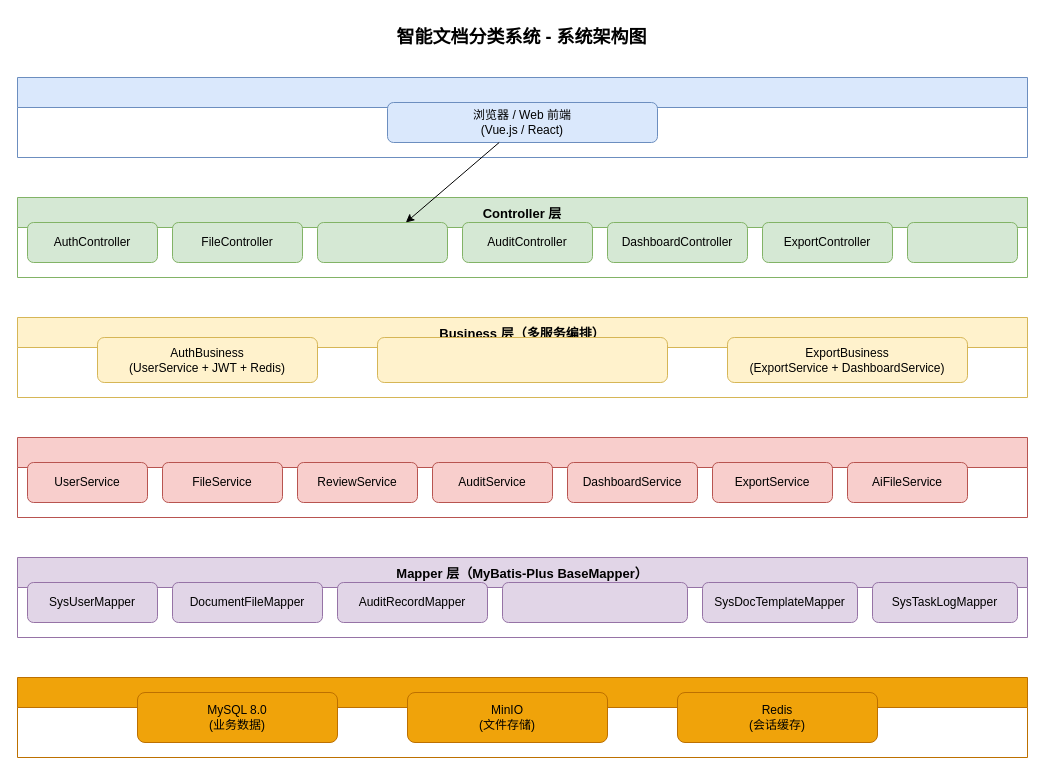
Image size: 1045x775. Some labels were removed from this diagram. The shapes that lost their labels are listed below. From the top down, each one's box as (x1, y1, x2, y2) in pixels, then its label:
(16, 76, 1028, 158): 前端层
(316, 222, 448, 262): ReviewController
(906, 222, 1018, 262): AiProcessController
(376, 336, 668, 382): DocumentProcessBusiness (AiFileService + AIClient + Persistence)
(16, 436, 1028, 518): Service 层
(502, 582, 688, 622): DocumentExtractMainMapper
(16, 676, 1028, 758): 数据存储层
